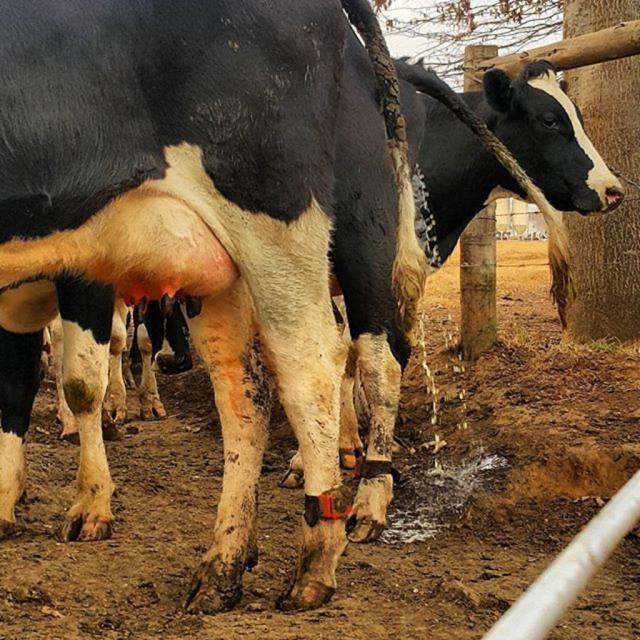Cattle: (0, 0, 626, 615)
